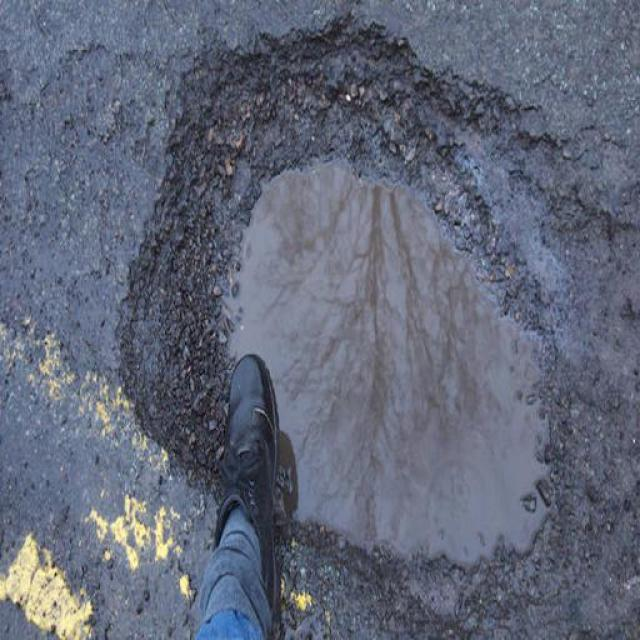puddle: (235, 164, 573, 565)
